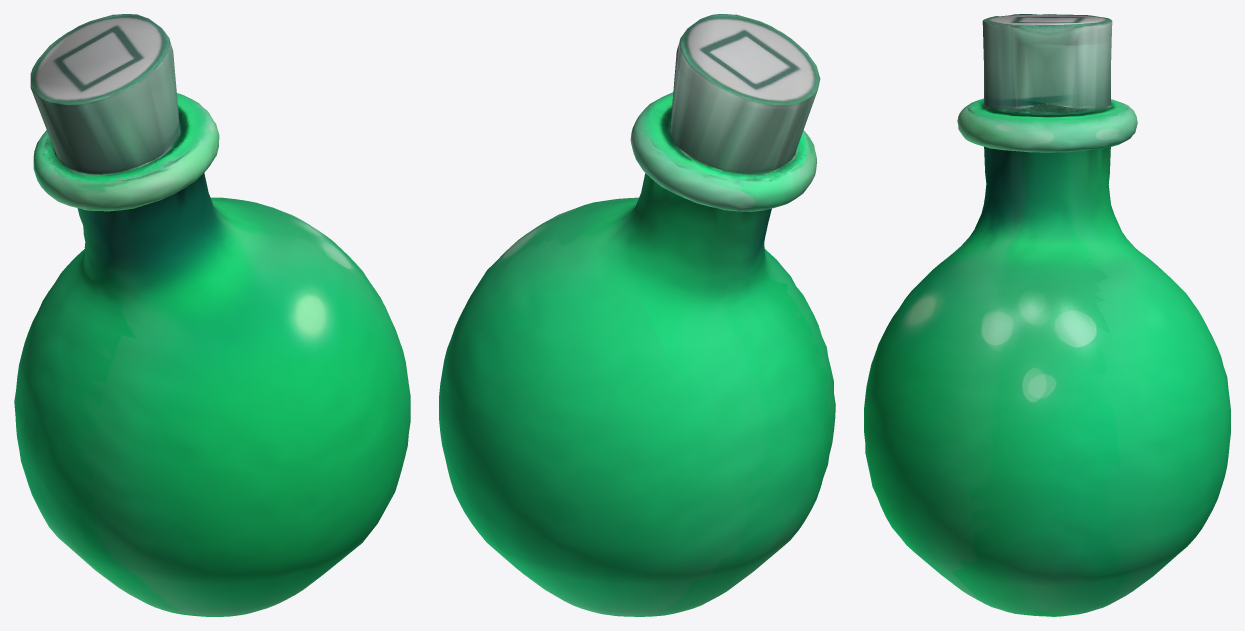
Rendered from green_elixir.glb.
3 renders of one model, left to right at view 1: azimuth 30°, elevation 25°; view 2: azimuth 150°, elevation 25°; view 3: azimuth 270°, elevation 25°, orthographic. The views are drawn at different scales.
Visible parts, largest first — view 1: Mesh_0; view 2: Mesh_0; view 3: Mesh_0.
Part boxes in pixels (bbox=[...]): Mesh_0: bbox=[14, 14, 410, 616]; Mesh_0: bbox=[439, 14, 835, 616]; Mesh_0: bbox=[864, 14, 1230, 616].
Bounding box in the file's own units: 0.0626 × 0.1 × 0.0622.
Materials: 1 (1 with a texture image).
